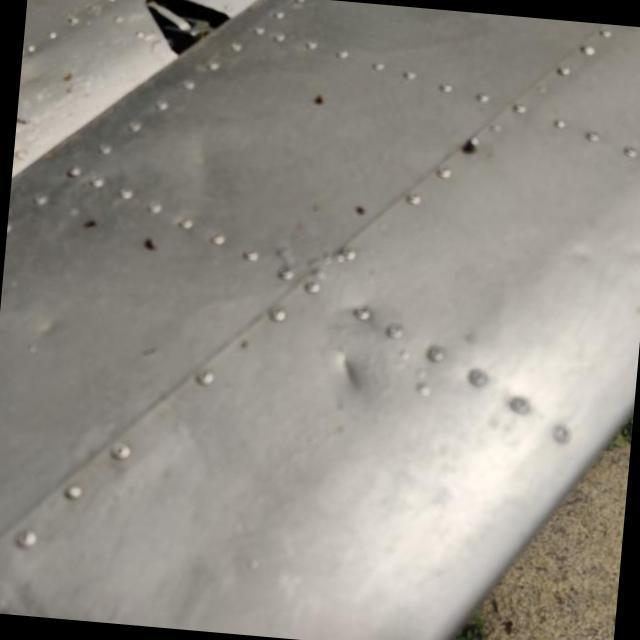Dent: (303, 318, 405, 428)
